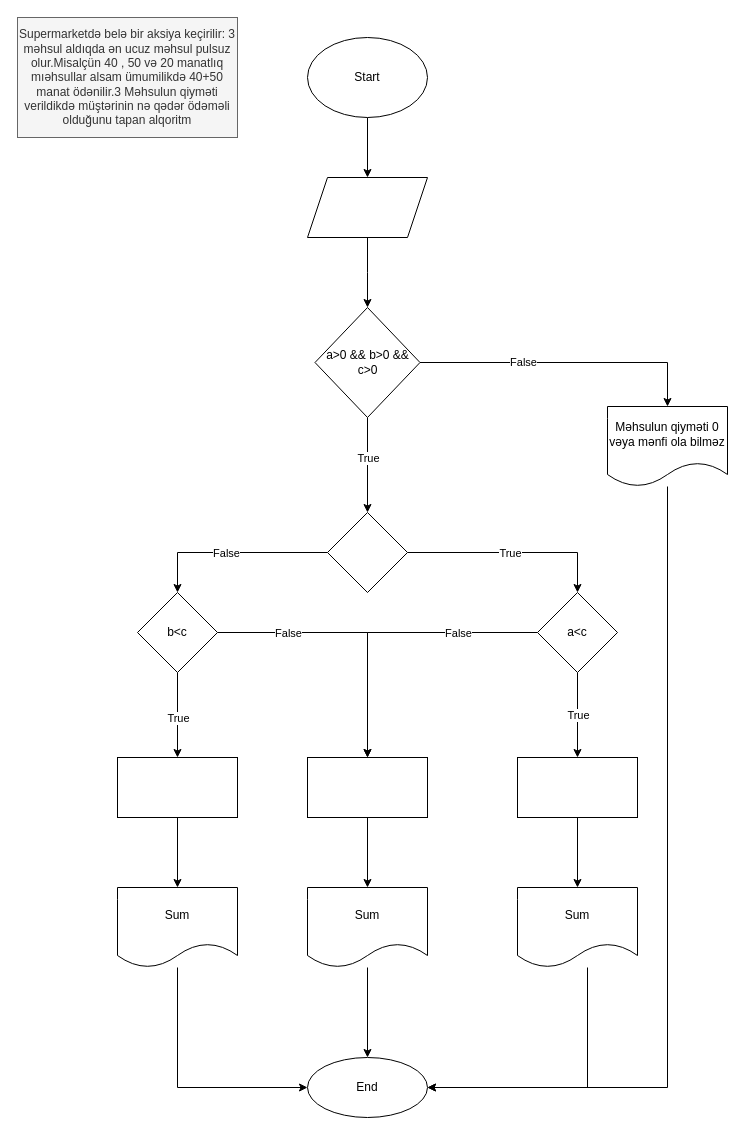
Image size: 745x1135. Some labels were removed from this diagram. The shapes that lost their labels are listed below. From the top down, each one's box as (x1, y1, x2, y2) in pixels, then its label:
(306, 176, 428, 238): var a,b,c Sum=0
(326, 512, 408, 592): a<b
(116, 756, 238, 818): Sum=a+c
(306, 756, 428, 818): Sum=a+b
(516, 756, 638, 818): Sum=b+c
